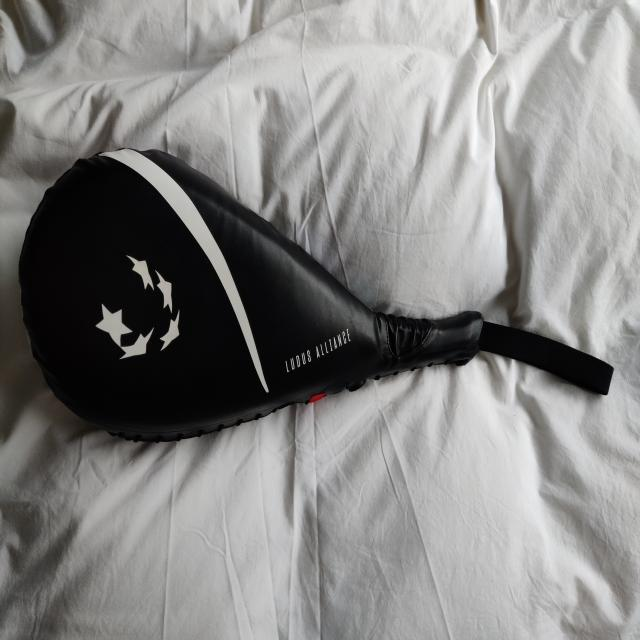paddle: (16, 144, 486, 446)
